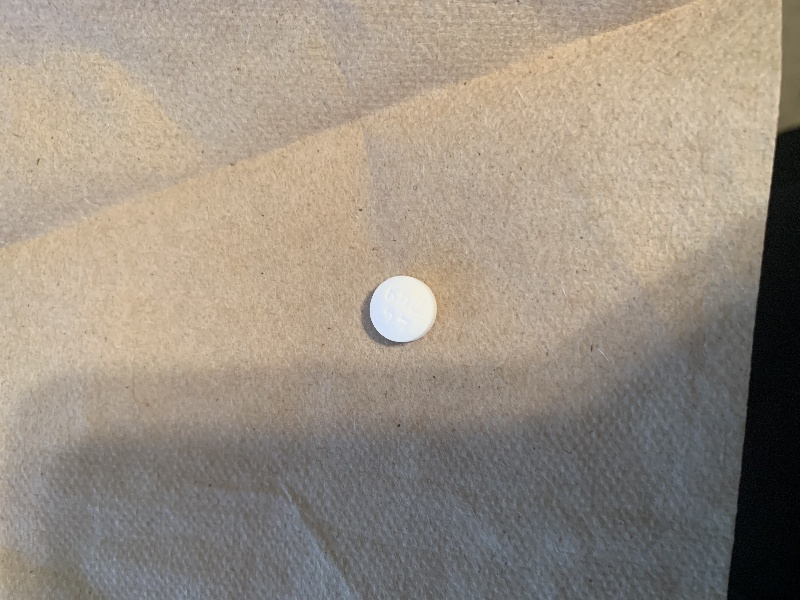Aspirin: (365, 272, 440, 347)
